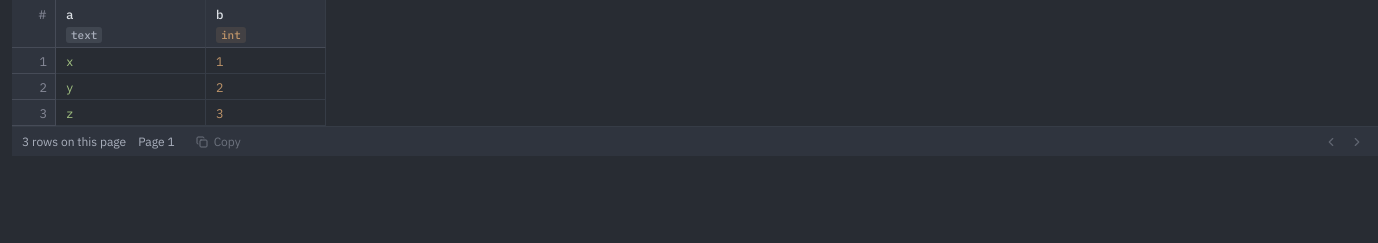
Test case: ResultsGrid › row menu › does not offer Select row when the menu opens on a data cell
Right-click the text "y" at (70, 87), box [66,79,74,95]
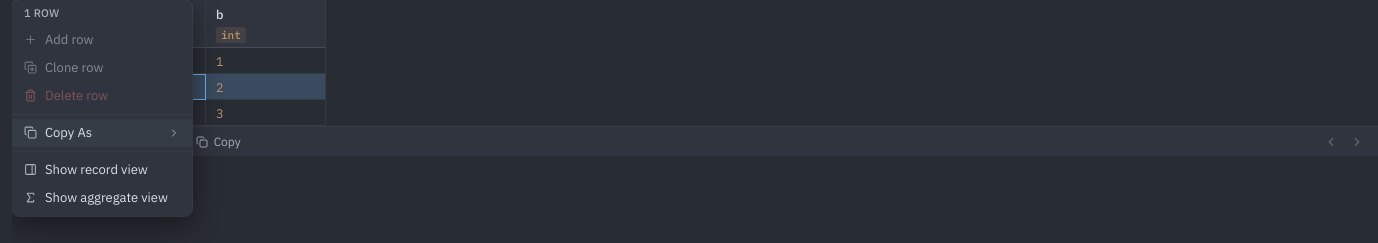
Check: the menu named "Row actions" is shown, box [12,0,192,216]
